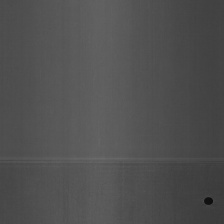punching_hole: (1, 149, 223, 170), (203, 193, 214, 208)
